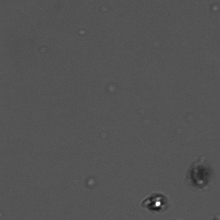Dead Cell: (187, 160, 216, 192)
Living Cell: (142, 192, 168, 212)
